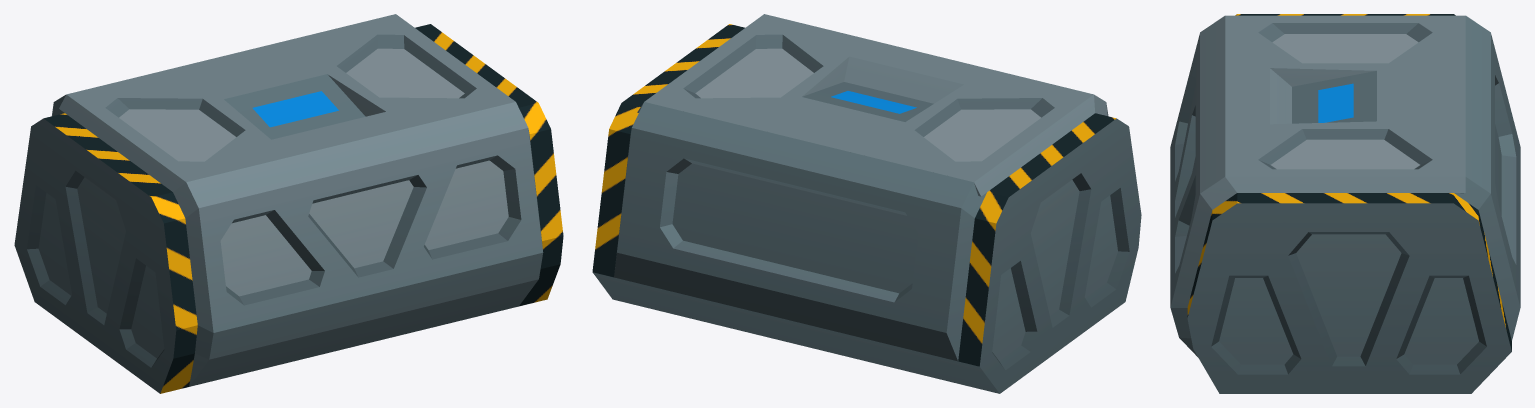
Rendered from Crate_016.glb.
The picture shows the model from 3 angles, left to right: view 1: azimuth 30°, elevation 25°; view 2: azimuth 150°, elevation 25°; view 3: azimuth 270°, elevation 25°; orthographic projection.
Visible parts, largest first — view 1: Crate_016; view 2: Crate_016; view 3: Crate_016.
Part boxes in pixels (x1=…): Crate_016: x1=14, y1=14, x2=563, y2=393; Crate_016: x1=592, y1=14, x2=1141, y2=393; Crate_016: x1=1170, y1=14, x2=1520, y2=393.
Bounding box in the file's own units: 1 × 0.5 × 0.781.
2 materials, 2 textured.
